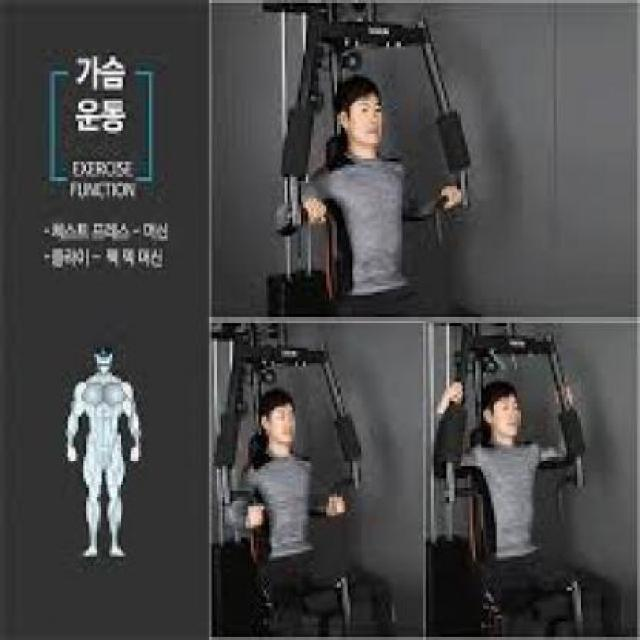Chest Press machine: (251, 0, 486, 311), (212, 315, 397, 640), (432, 315, 610, 640)
